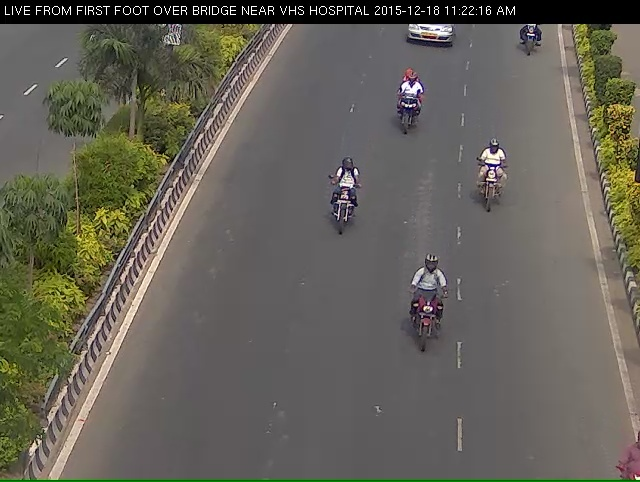Car: (400, 20, 458, 54)
Person: (400, 278, 450, 387), (471, 151, 513, 231), (320, 172, 357, 253), (389, 76, 425, 147), (513, 25, 545, 59)
